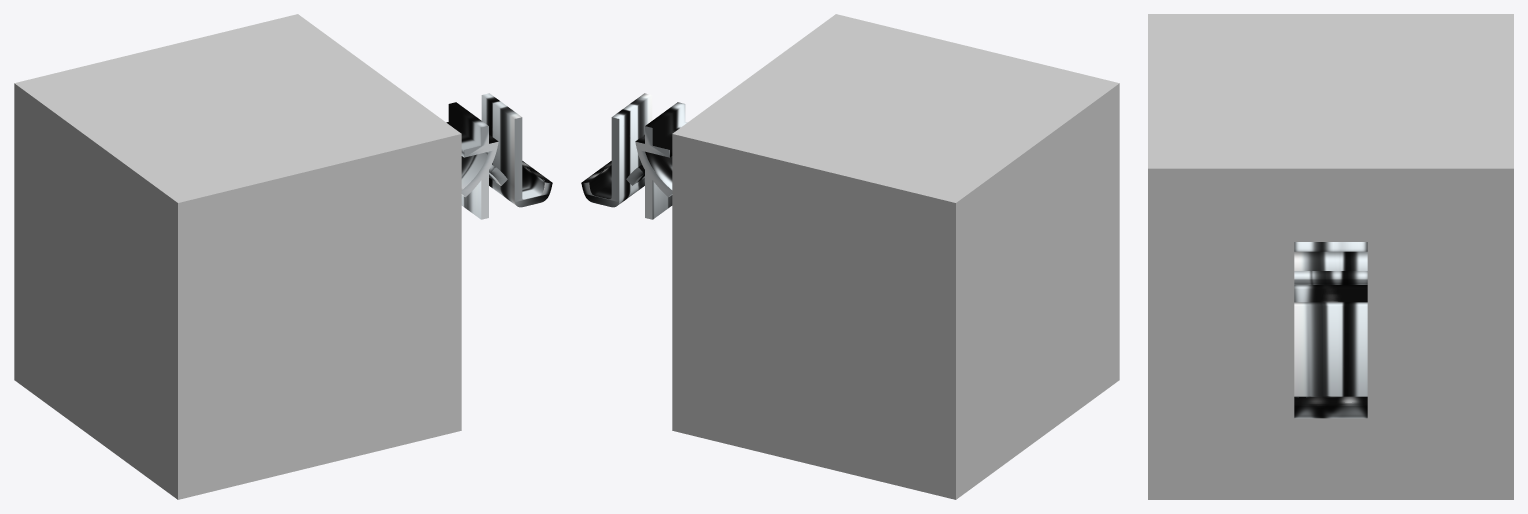
The model's file is shadows.glb.
3 renders of one model, left to right at view 1: azimuth 30°, elevation 25°; view 2: azimuth 150°, elevation 25°; view 3: azimuth 270°, elevation 25°, orthographic. The views are drawn at different scales.
Parts seen in each view (by area): view 1: Cube, Text; view 2: Cube, Text; view 3: Cube, Text.
Boxes of the visible parts, x1,y1,x2,y2 form: Cube: (14,14,461,499); Text: (446,93,552,219); Cube: (672,14,1119,499); Text: (581,93,687,219); Cube: (1148,14,1513,499); Text: (1294,242,1367,418).
Bounding box in the file's own units: 3.1 × 2 × 2.
Materials: 2 (1 with a texture image).
